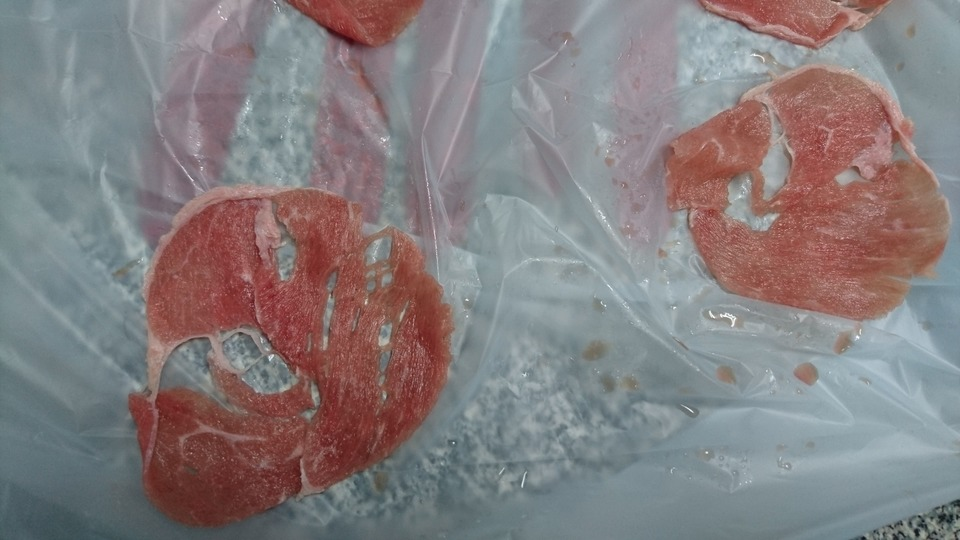restructured meat: (108, 188, 458, 518), (660, 46, 950, 331)
